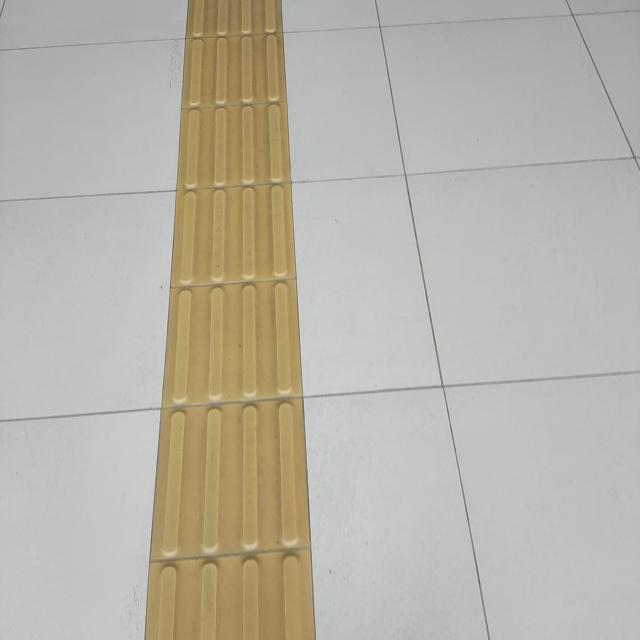lurus: (160, 0, 300, 640)
